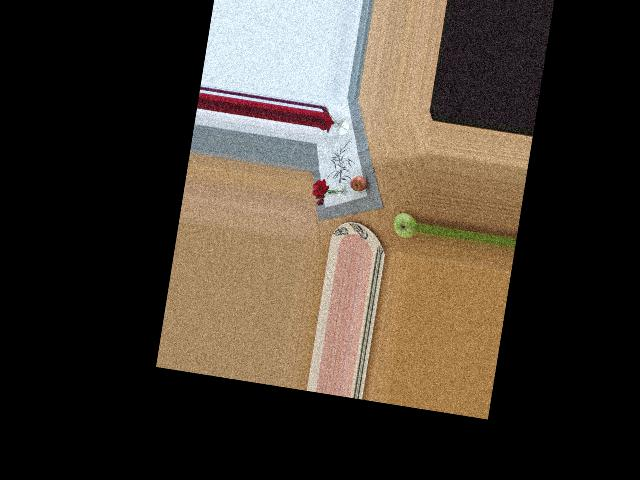apple: (390, 210, 418, 240)
